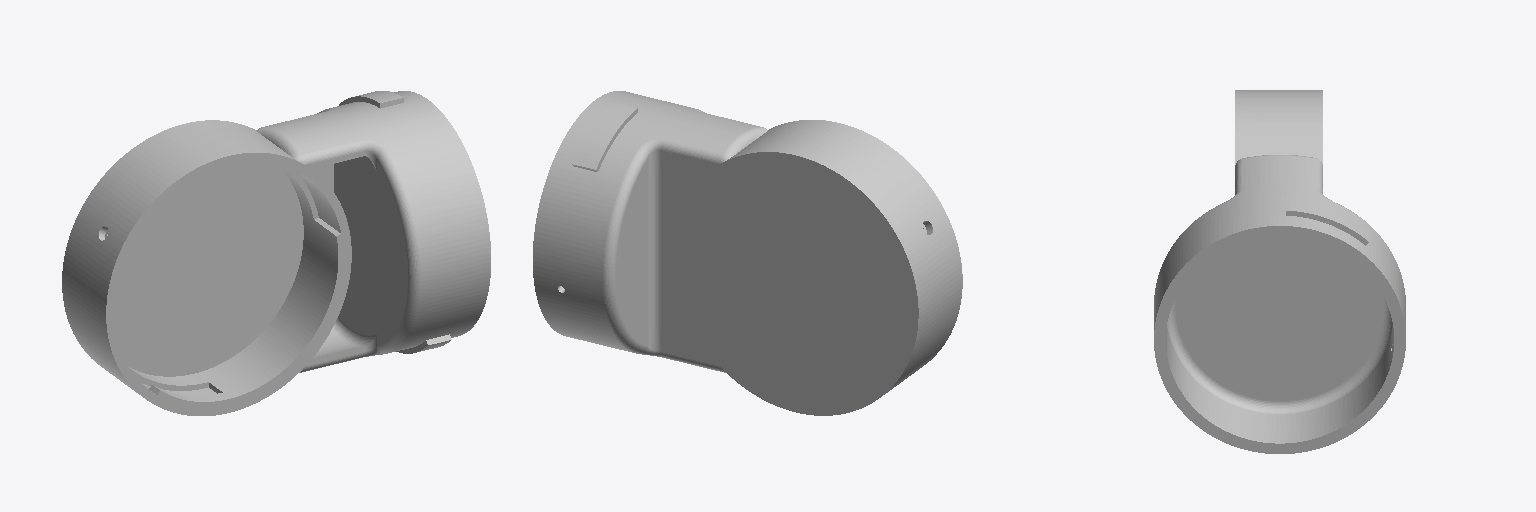
The model's file is right_angle_adapter.obj.
3 renders of one model, left to right at view 1: azimuth 30°, elevation 25°; view 2: azimuth 150°, elevation 25°; view 3: azimuth 270°, elevation 25°, orthographic.
Visible parts, largest first — view 1: Right_Angle_Adapter; view 2: Right_Angle_Adapter; view 3: Right_Angle_Adapter.
Boxes of the visible parts, x1,y1,x2,y2 form: Right_Angle_Adapter: [62, 91, 490, 415]; Right_Angle_Adapter: [533, 91, 962, 415]; Right_Angle_Adapter: [1154, 90, 1405, 453].
Size of the model in its own units: 0.101 by 0.072 by 0.064.